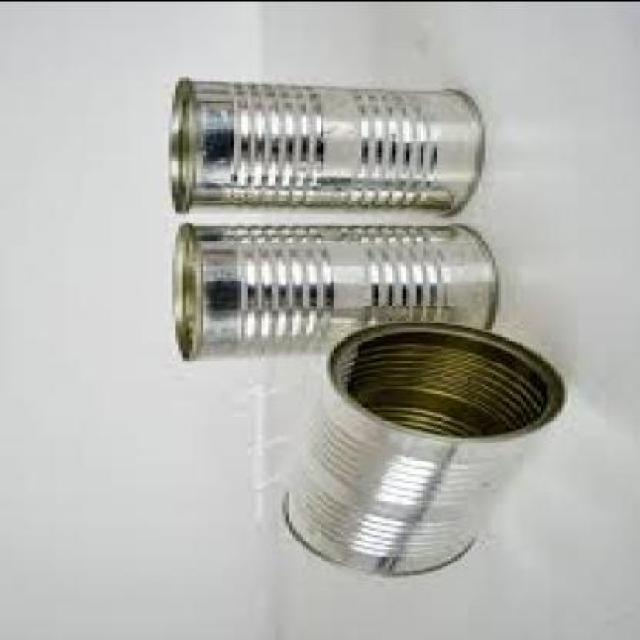METAL: (278, 314, 568, 574), (168, 218, 502, 359), (164, 76, 482, 212)
